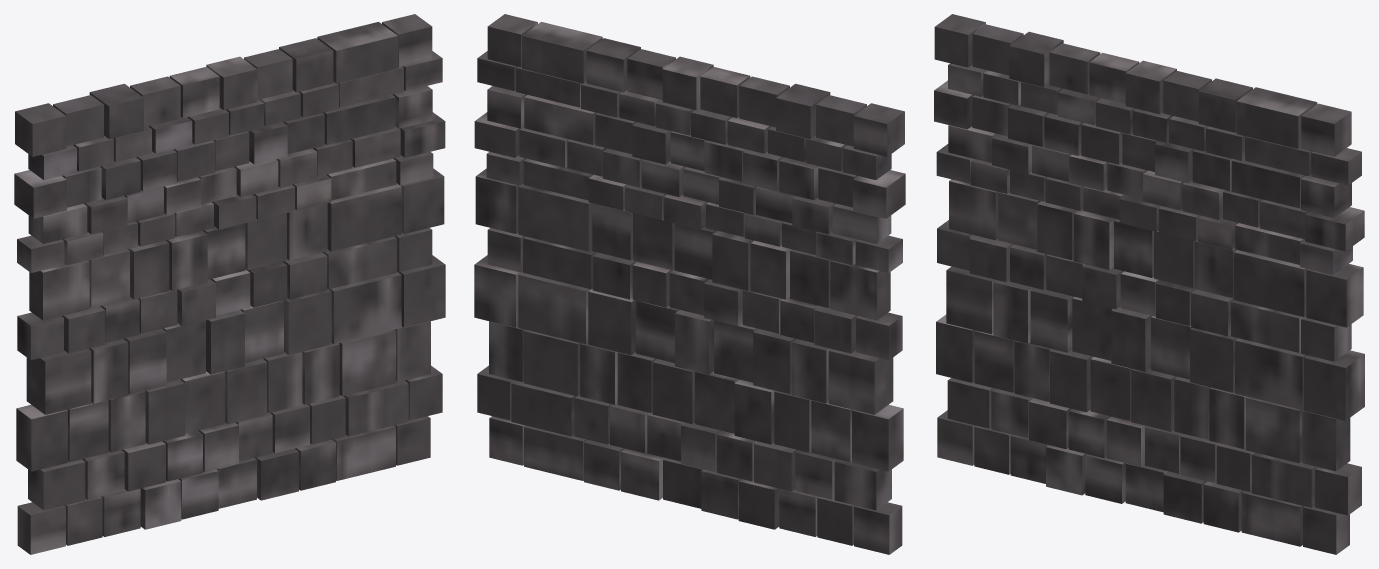
The model's file is Wall_002.fbx.
3 views of the same model, side by side, from view 1: azimuth 30°, elevation 25°; view 2: azimuth 150°, elevation 25°; view 3: azimuth 330°, elevation 25° (orthographic).
Parts seen in each view (by area): view 1: Wall.002; view 2: Wall.002; view 3: Wall.002.
Part boxes in pixels (bbox=[...]): Wall.002: bbox=[14, 14, 445, 554]; Wall.002: bbox=[474, 14, 905, 554]; Wall.002: bbox=[934, 14, 1364, 554].
Bounding box in the file's own units: 913 × 916 × 76.07.
